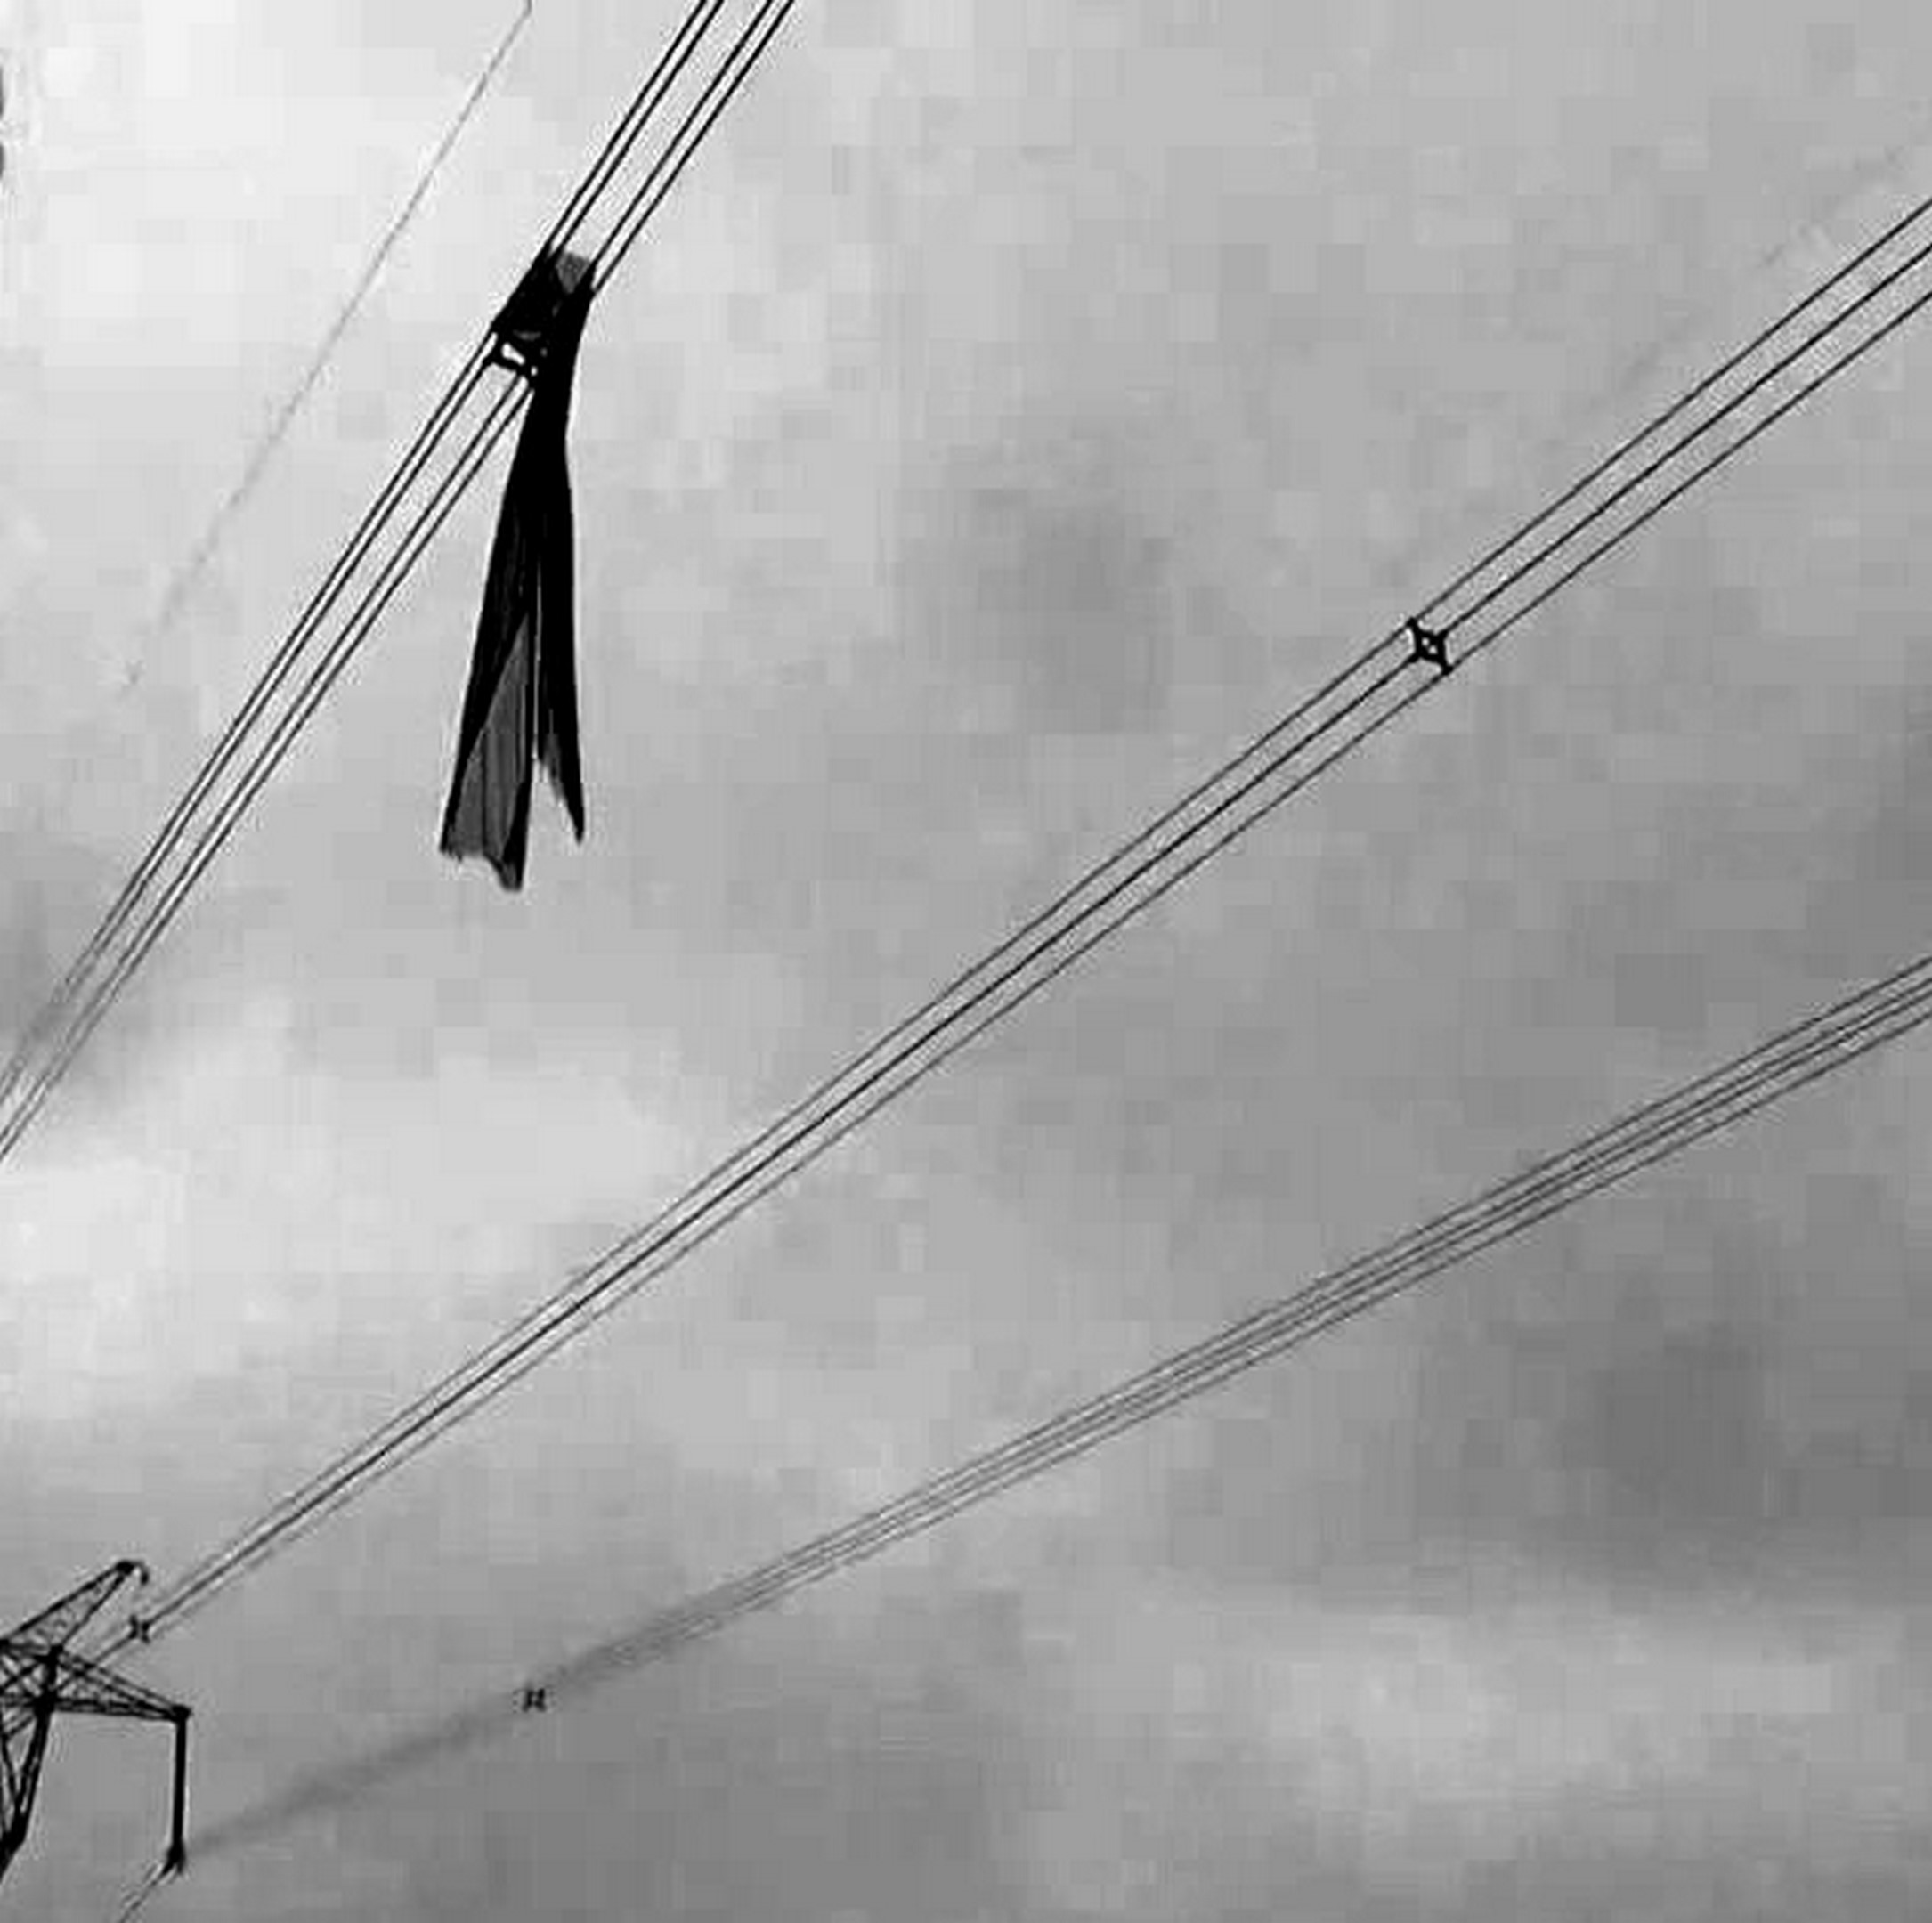wire foreign body: (430, 224, 645, 928)
